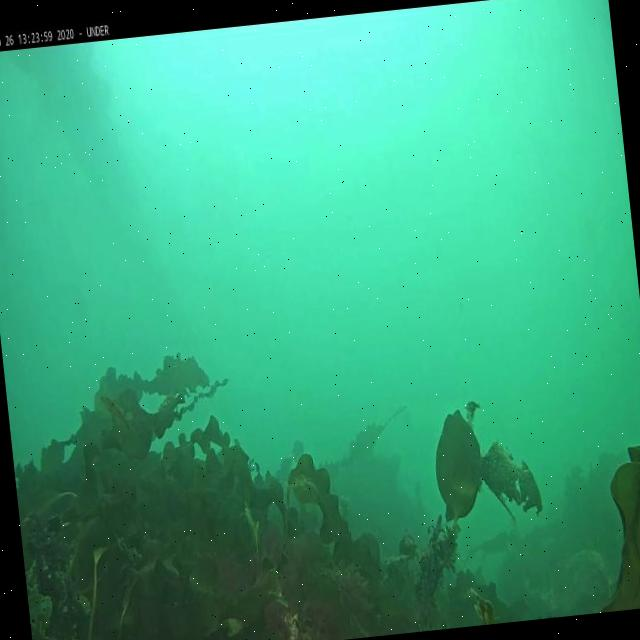fish: (100, 390, 133, 440)
